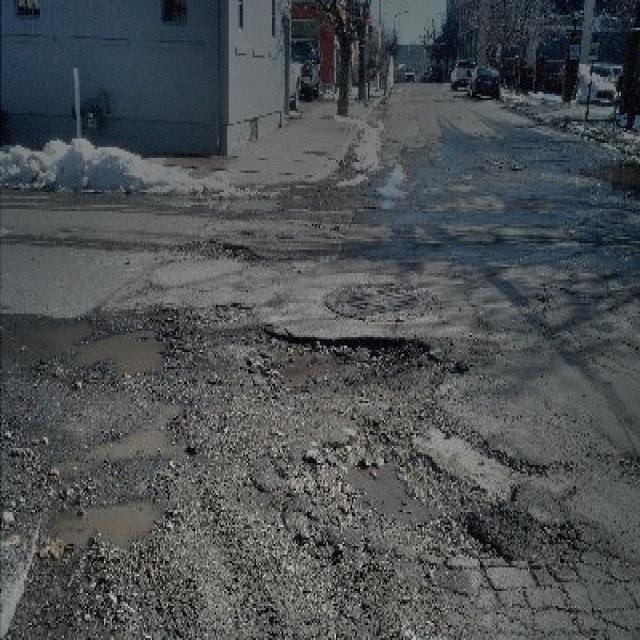pothole: (291, 416, 490, 557), (258, 320, 447, 397), (21, 309, 187, 380), (42, 487, 168, 552), (85, 395, 195, 463), (174, 241, 260, 265)
